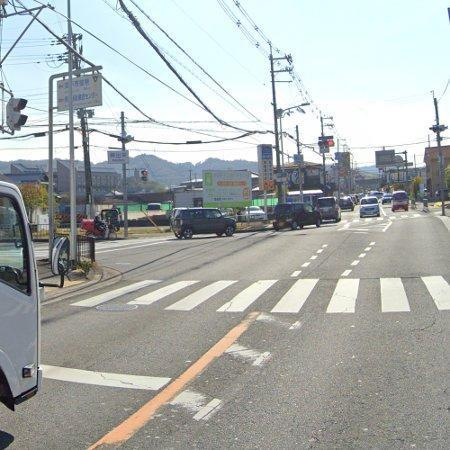crosswalk: (70, 275, 450, 312)
